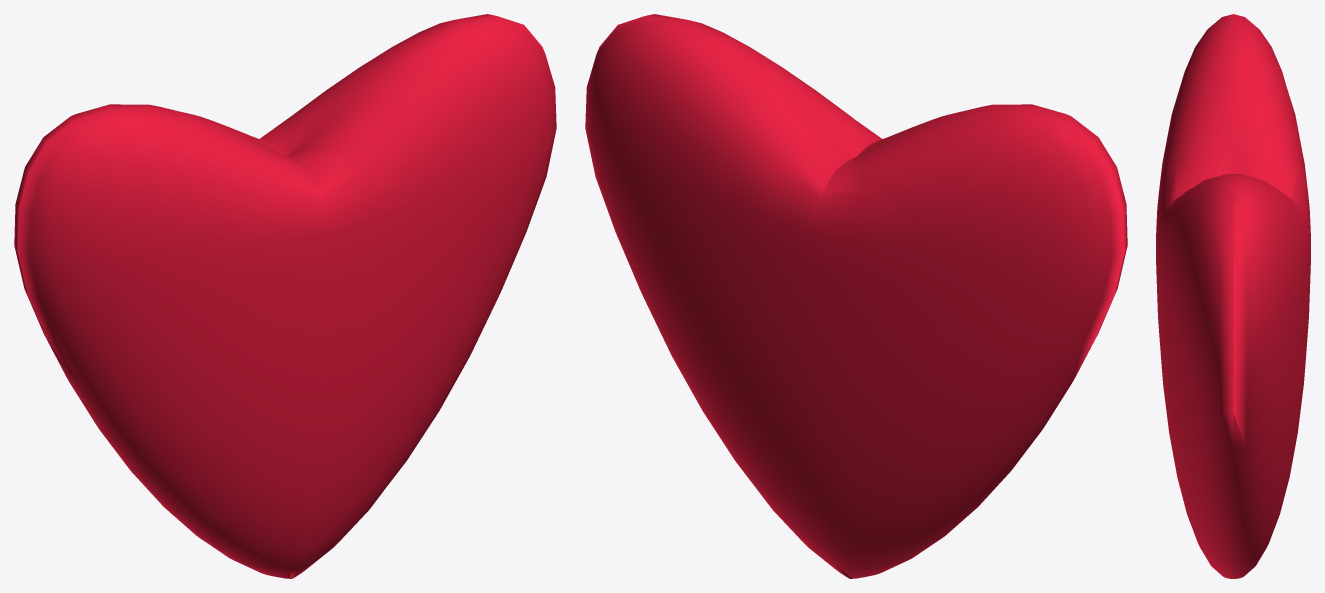
3 renders of one model, left to right at view 1: azimuth 30°, elevation 25°; view 2: azimuth 150°, elevation 25°; view 3: azimuth 270°, elevation 25°, orthographic. The views are drawn at different scales.
Visible parts, largest first — view 1: heart; view 2: heart; view 3: heart.
Boxes of the visible parts, x1,y1,x2,y2 form: heart: (14,14,556,578); heart: (585,14,1127,578); heart: (1156,14,1310,578).
Bounding box in the file's own units: 202 × 185 × 54.81.
